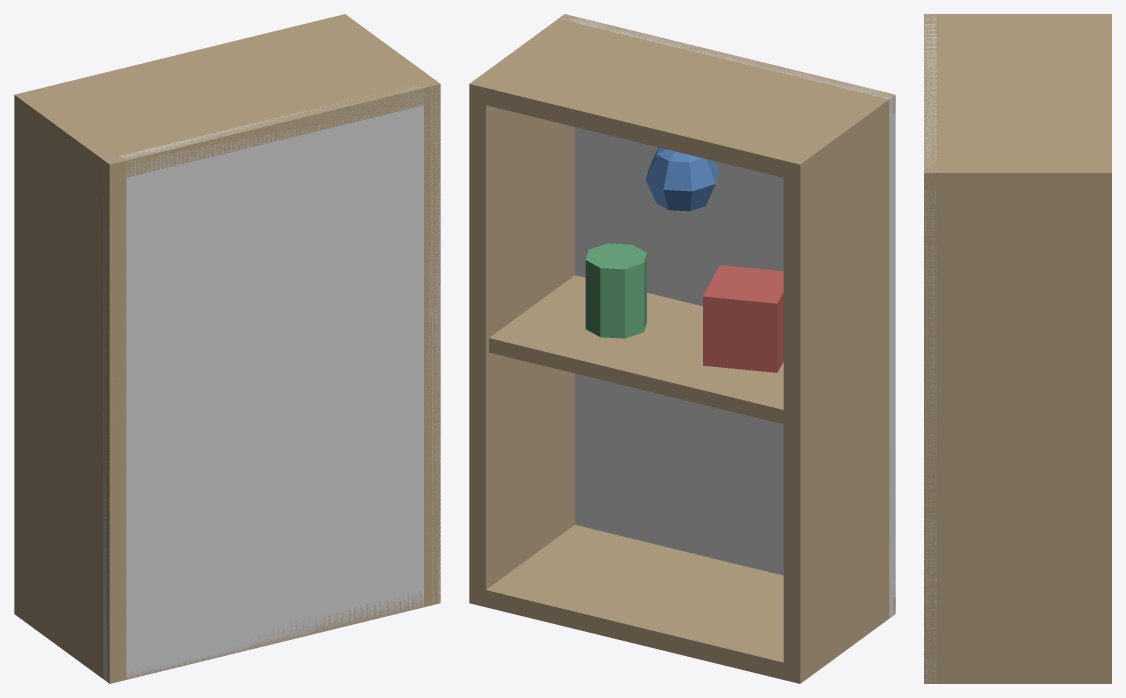
File: kids_prateleira.glb
The picture shows the model from 3 angles, left to right: view 1: azimuth 30°, elevation 25°; view 2: azimuth 150°, elevation 25°; view 3: azimuth 270°, elevation 25°; orthographic projection.
Parts seen in each view (by area): view 1: KIDS_PRATELEIRA_v01; view 2: KIDS_PRATELEIRA_v01; view 3: KIDS_PRATELEIRA_v01.
Part boxes in pixels (x1,y1,x2,y2): KIDS_PRATELEIRA_v01: (14, 14, 440, 683); KIDS_PRATELEIRA_v01: (469, 14, 895, 683); KIDS_PRATELEIRA_v01: (924, 14, 1111, 683).
Bounding box in the file's own units: 0.6 × 0.9 × 0.3.
